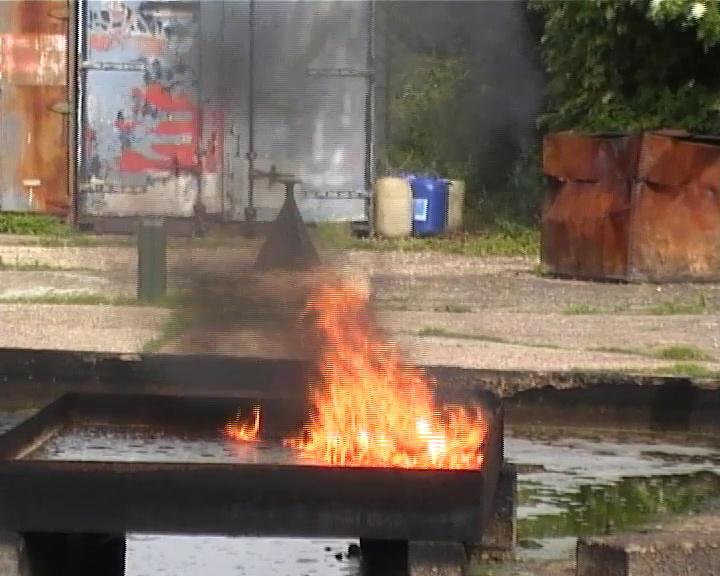fire: (284, 285, 486, 468), (223, 406, 262, 439)
